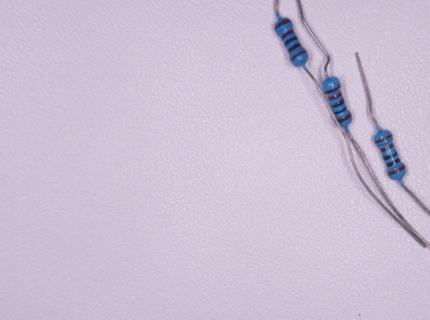Black band: (287, 43, 302, 54), (284, 36, 298, 47), (384, 151, 398, 161), (387, 158, 400, 167)
Brown band: (275, 19, 291, 32), (388, 165, 406, 176), (291, 50, 307, 62), (375, 133, 392, 144), (280, 30, 294, 40), (380, 143, 394, 153)
